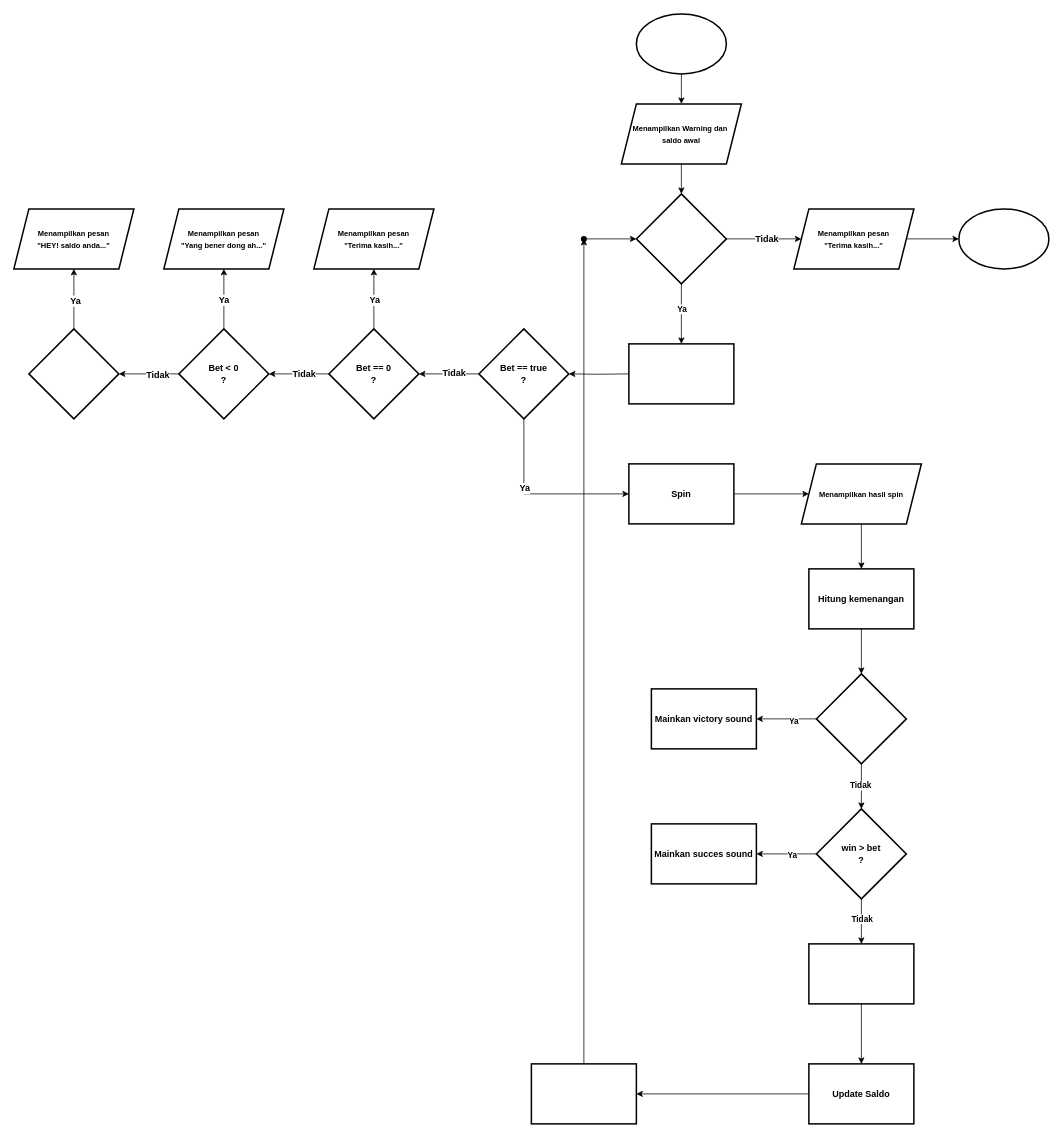
Image size: 1062x1137. Some labels were removed from this diagram. Here are the shapes that lost their labels. From the top down, the centre of each, then its label:
At point (681, 43): "START".
At point (681, 238): "Saldo > 0 ?".
At point (1003, 238): "END".
At point (73, 373): "Bet > saldo ?".
At point (681, 373): "Input jumlah taruhan".
At point (861, 718): "win == bet * jackpot ?".
At point (861, 973): "Mainkan fail sound".
At point (583, 1093): "Menampilkan saldo".
